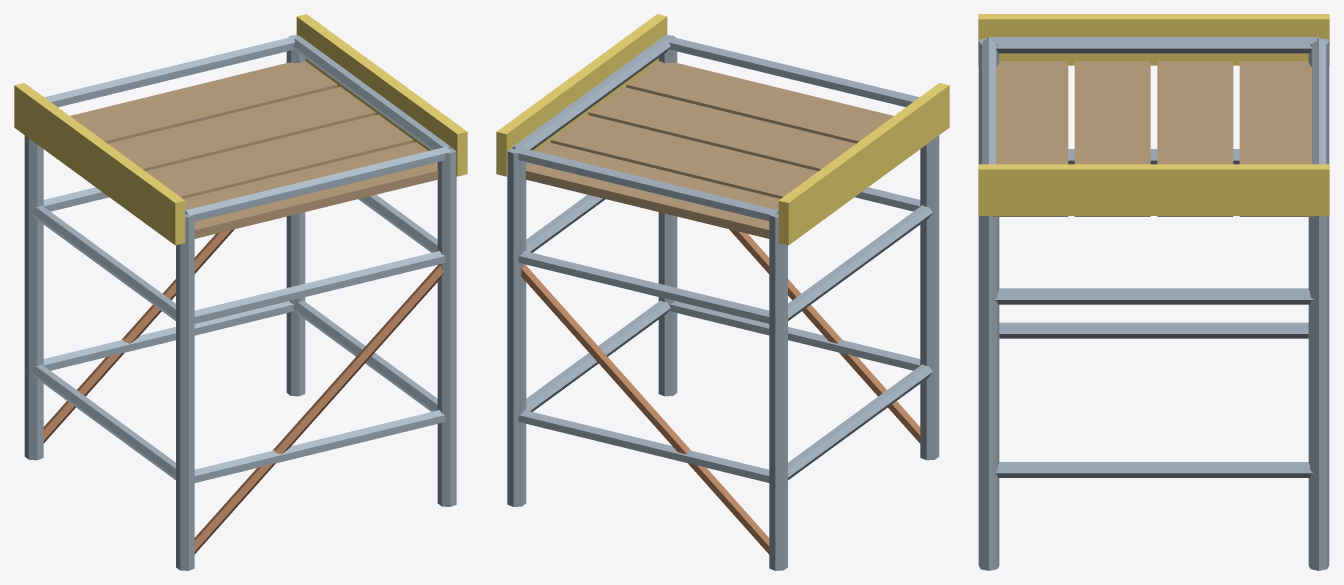
The model's file is wipe-day-survival-island-scaffold-tower-section-2b2c629e__27507.glb.
The picture shows the model from 3 angles, left to right: view 1: azimuth 30°, elevation 25°; view 2: azimuth 150°, elevation 25°; view 3: azimuth 270°, elevation 25°; orthographic projection. The views are drawn at different scales.
Visible parts, largest first — view 1: scaffold-tower-section; view 2: scaffold-tower-section; view 3: scaffold-tower-section.
Boxes of the visible parts, bbox=[...] form: scaffold-tower-section: bbox=[14, 14, 467, 570]; scaffold-tower-section: bbox=[496, 14, 949, 570]; scaffold-tower-section: bbox=[978, 14, 1329, 570].
Bounding box in the file's own units: 1.73 × 2.1 × 1.65.
